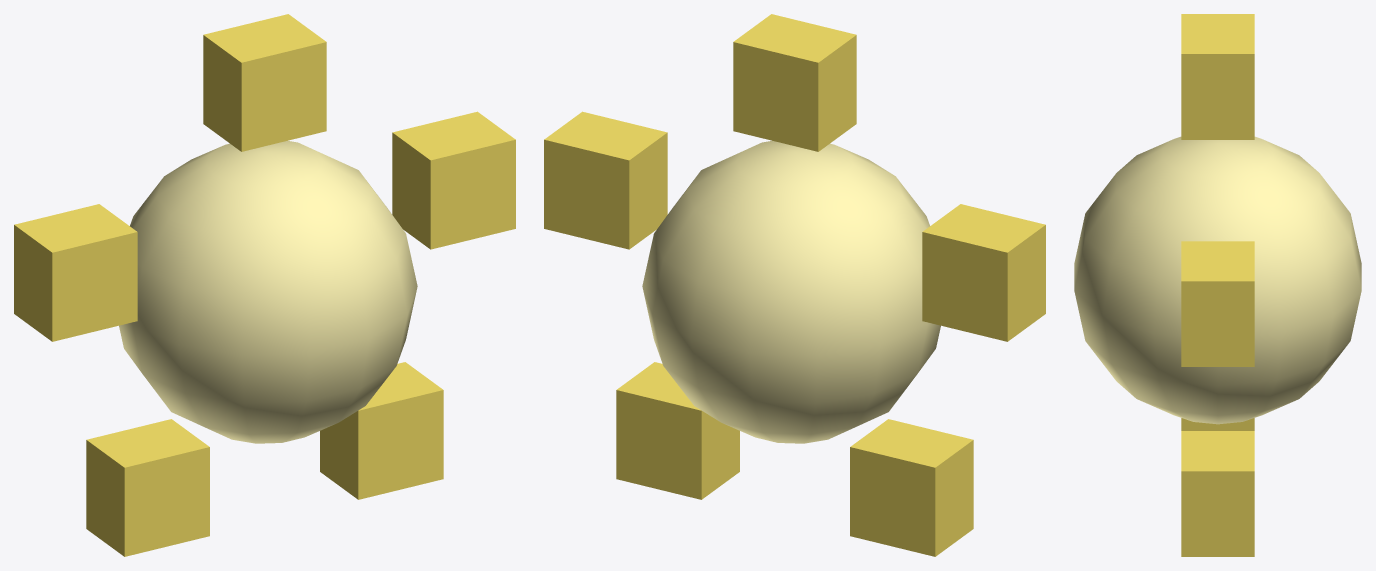
File: estrella.glb
The picture shows the model from 3 angles, left to right: view 1: azimuth 30°, elevation 25°; view 2: azimuth 150°, elevation 25°; view 3: azimuth 270°, elevation 25°; orthographic projection. The views are drawn at different scales.
Parts seen in each view (by area): view 1: centro_estrella, punta_0, punta_3, punta_4, punta_1, punta_2; view 2: centro_estrella, punta_0, punta_3, punta_4, punta_1, punta_2; view 3: centro_estrella, punta_0, punta_1, punta_2, punta_3.
Part boxes in pixels (bbox=[...]): centro_estrella: bbox=[119, 140, 417, 443]; punta_0: bbox=[203, 14, 326, 151]; punta_3: bbox=[86, 419, 209, 556]; punta_4: bbox=[14, 204, 137, 341]; punta_1: bbox=[392, 111, 515, 249]; punta_2: bbox=[320, 362, 443, 499]; centro_estrella: bbox=[642, 140, 940, 443]; punta_0: bbox=[733, 14, 856, 151]; punta_3: bbox=[850, 419, 973, 556]; punta_4: bbox=[922, 204, 1045, 341]; punta_1: bbox=[544, 111, 667, 249]; punta_2: bbox=[616, 362, 739, 499]; centro_estrella: bbox=[1074, 136, 1361, 424]; punta_0: bbox=[1181, 14, 1254, 139]; punta_1: bbox=[1181, 241, 1254, 366]; punta_2: bbox=[1181, 431, 1254, 556]; punta_3: bbox=[1181, 418, 1254, 430].
Size of the model in its own units: 0.9789 by 0.9398 by 0.546.
